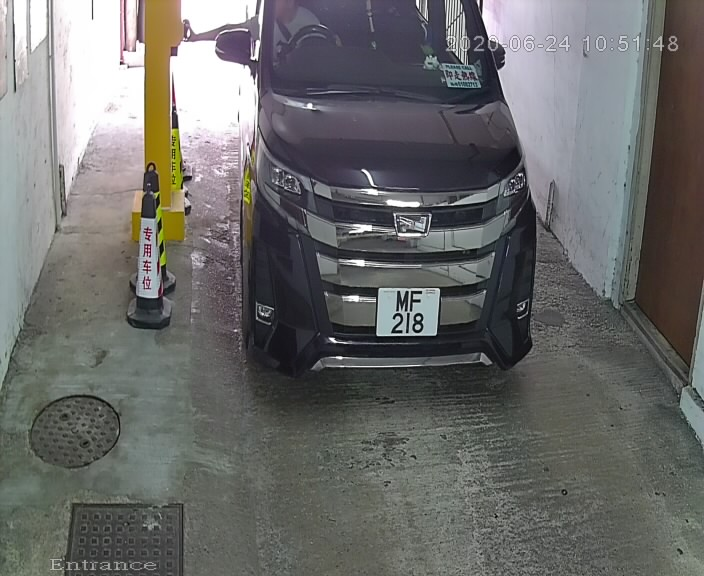Car: (201, 1, 544, 409)
License Plate: (374, 285, 443, 347)
